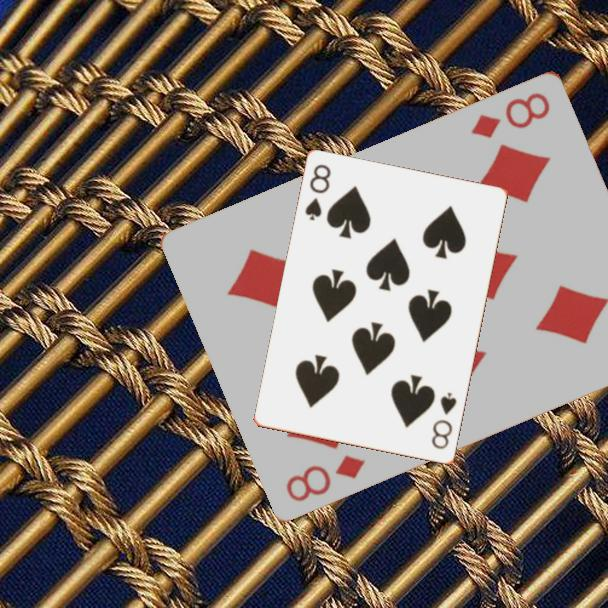d08: (282, 451, 369, 504), (467, 88, 553, 141)
s08: (428, 389, 460, 453), (302, 161, 334, 224)
